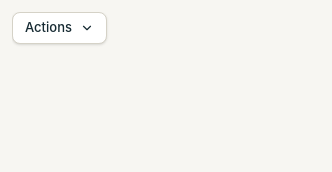
it: appointment status transitions › hides status changes for a terminal appointment
The width and height of the screenshot is (332, 172).
Click the button with aria-label "Appointment actions" at (60, 28), box x1=12 y1=12 x2=107 y2=44
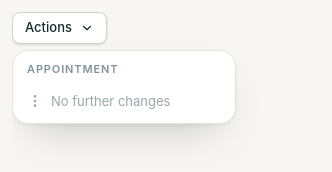
Now the menu item "No further changes" is shown, box x1=27 y1=92 x2=170 y2=109
